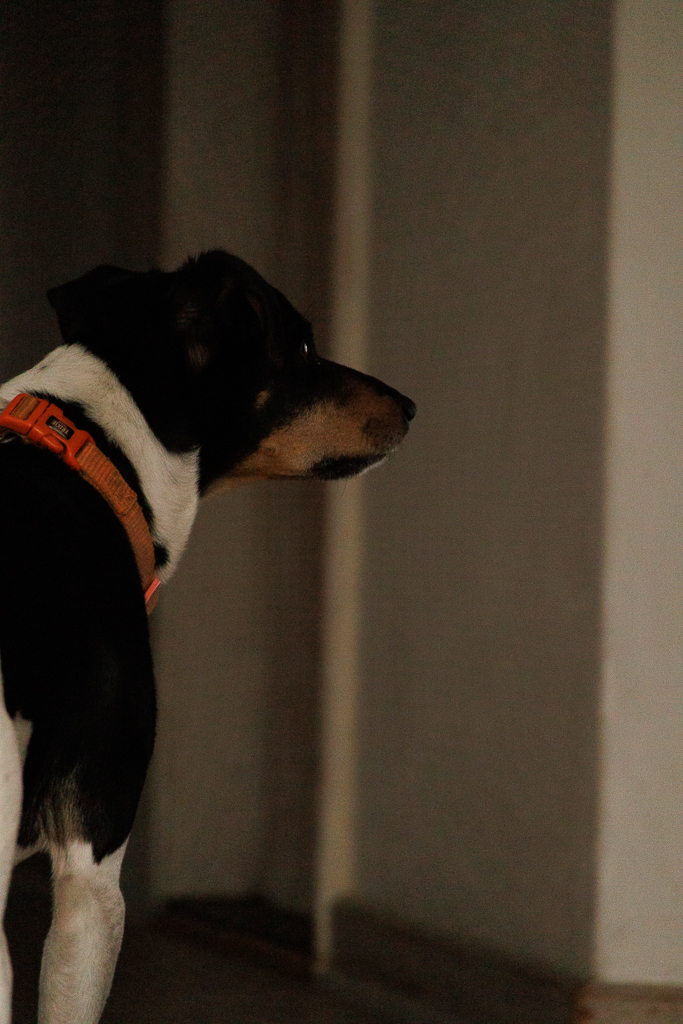Dog: (0, 233, 429, 1024)
